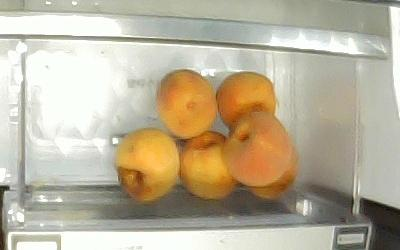peach: (219, 109, 292, 187), (113, 126, 181, 203), (155, 67, 217, 139), (176, 129, 239, 199), (214, 70, 276, 129), (247, 143, 299, 199)
